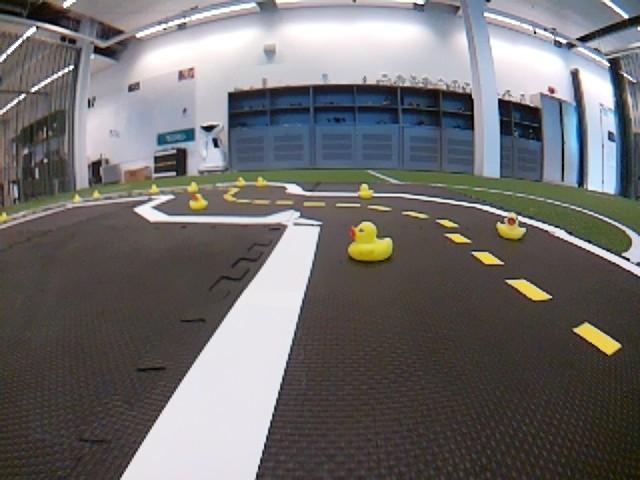Duckies: (349, 220, 393, 262), (494, 212, 528, 240), (189, 193, 208, 210), (357, 184, 376, 199), (255, 176, 267, 187), (187, 181, 199, 192), (235, 177, 247, 187), (149, 184, 159, 193), (92, 190, 102, 199), (73, 194, 83, 203), (2, 213, 11, 222)
